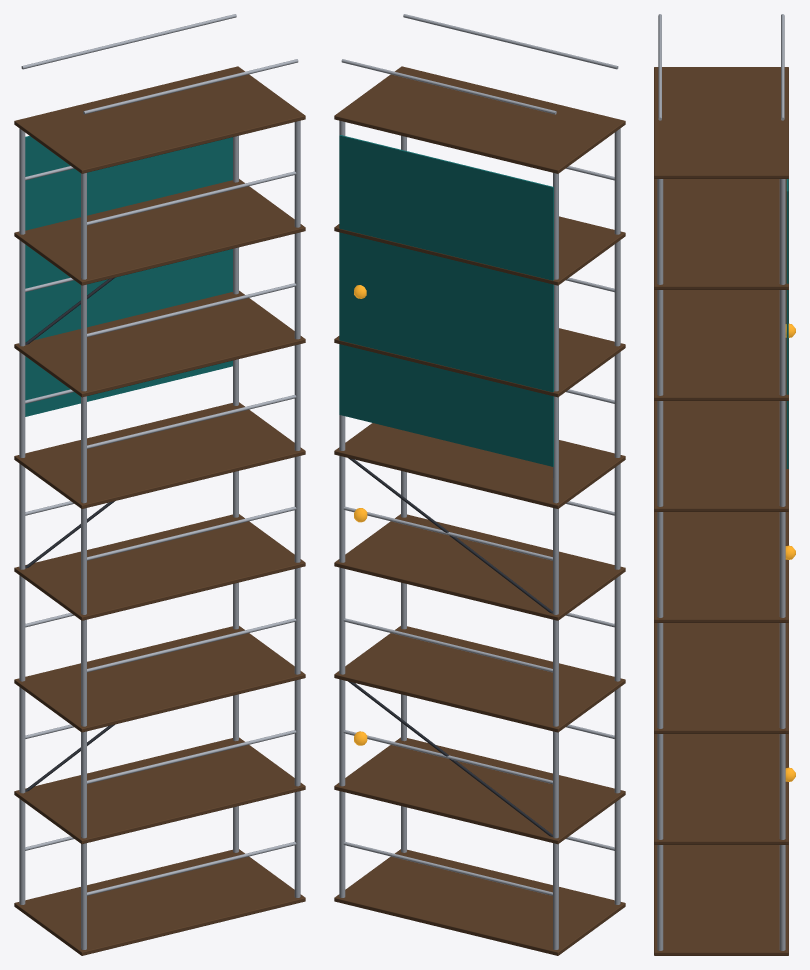
The model's file is prop_scaffold.glb.
The picture shows the model from 3 angles, left to right: view 1: azimuth 30°, elevation 25°; view 2: azimuth 150°, elevation 25°; view 3: azimuth 270°, elevation 25°; orthographic projection.
Visible parts, largest first — view 1: Scaffold; view 2: Scaffold; view 3: Scaffold.
Part boxes in pixels (left/top/right/bottom): Scaffold: left=14, top=14, right=305, bottom=955; Scaffold: left=334, top=14, right=625, bottom=955; Scaffold: left=654, top=14, right=795, bottom=955.
Size of the model in its own units: 4.2 by 15.06 by 2.31.
